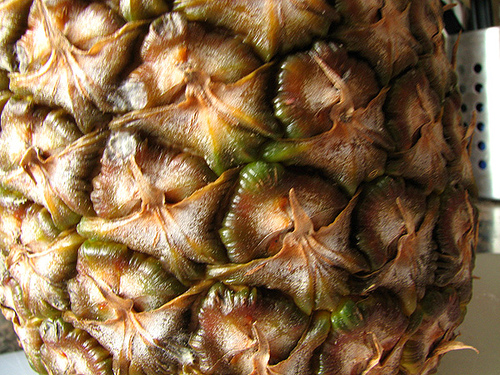pineapple: (2, 2, 480, 374)
